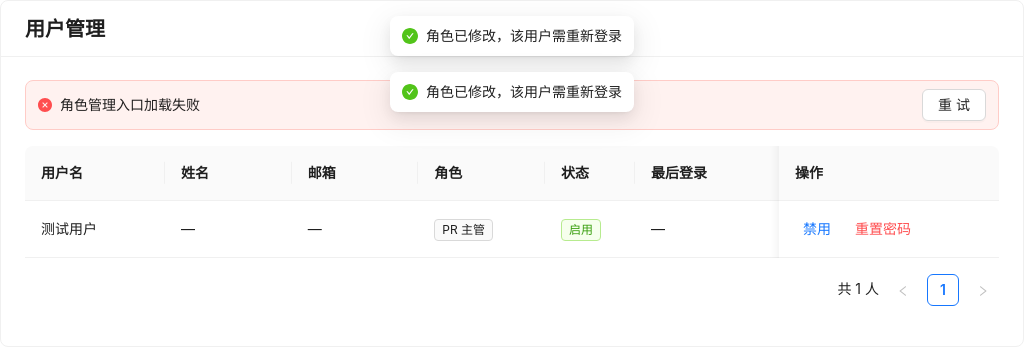
Test: 已有账号角色分配 › 入口加载失败可重试，不先展示编辑按钮
Expected: the text "角色管理入口加载失败" is shown, x1=60 y1=96 x2=200 y2=113
Expected: the button "修改角色" is not shown
Click the button "重 试": (954, 105) x1=922 y1=89 x2=986 y2=121
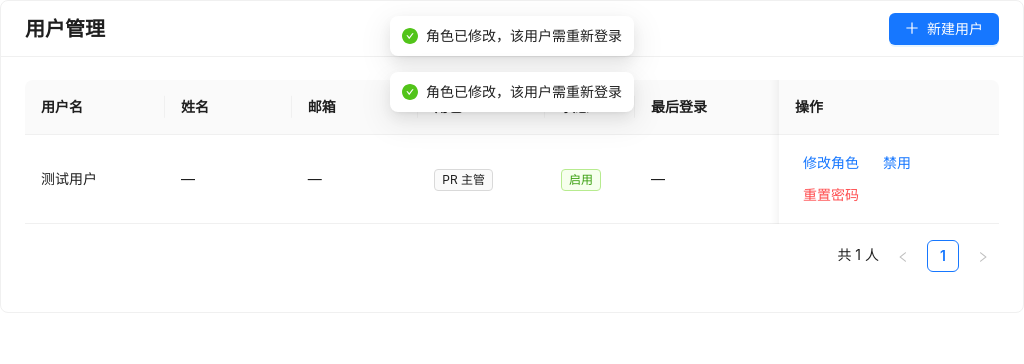
Result: the button "修改角色" is shown at x1=795 y1=151 x2=867 y2=175
